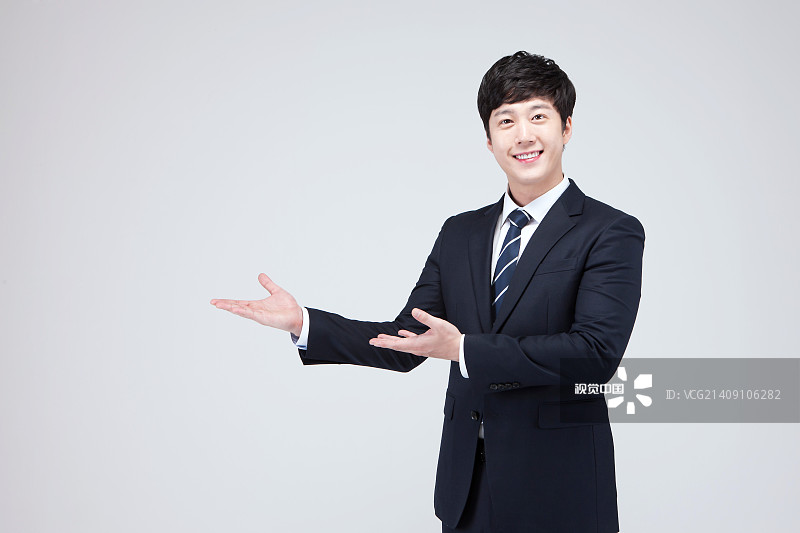no-phone: (200, 258, 314, 349), (358, 305, 476, 378)
